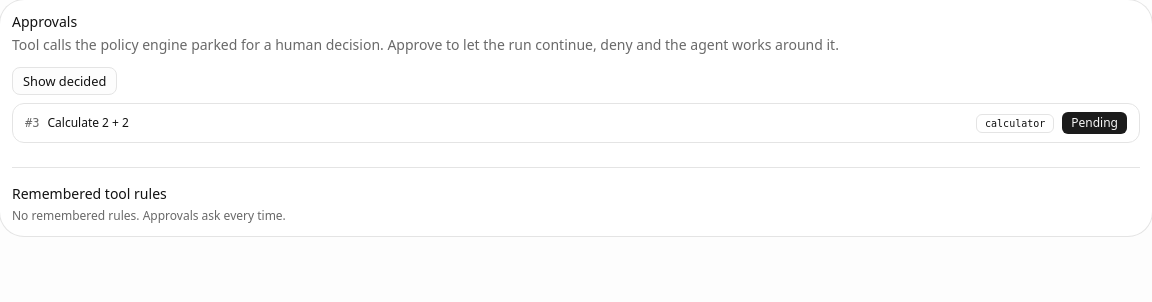
shows pending requests and hides decided ones by default
expect the text "Fetch https://x.test" is not shown: met
Click the button "Show decided".
click(65, 81)  # box [12,67,117,95]
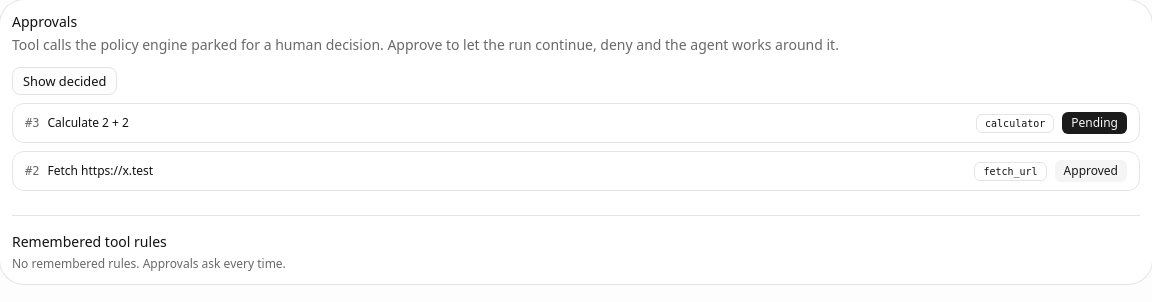
expect the text "Fetch https://x.test" is shown: met, box [48,162,153,179]
